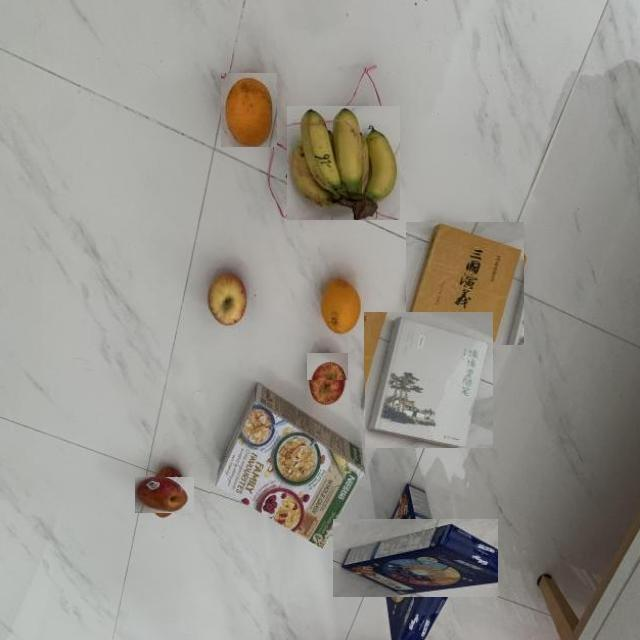Apple: (207, 269, 251, 330), (307, 353, 348, 414), (136, 477, 194, 513)
Banana: (287, 106, 400, 220)
Book: (365, 312, 493, 448), (407, 221, 524, 345)
Cerealbox: (211, 381, 365, 554), (334, 518, 498, 597)
Orange: (221, 73, 277, 147), (317, 277, 363, 336)
